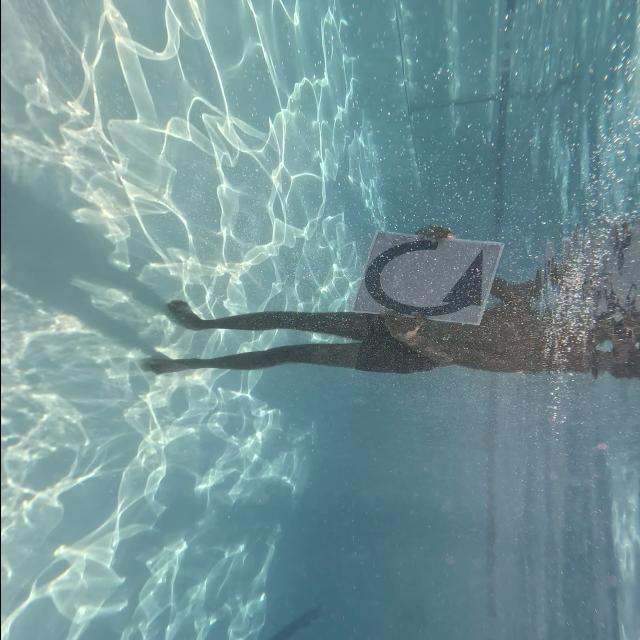blue_side: (344, 229, 508, 327)
